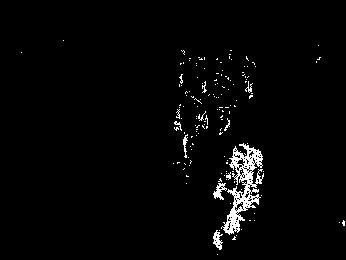person: (214, 141, 261, 250), (174, 90, 208, 167)
